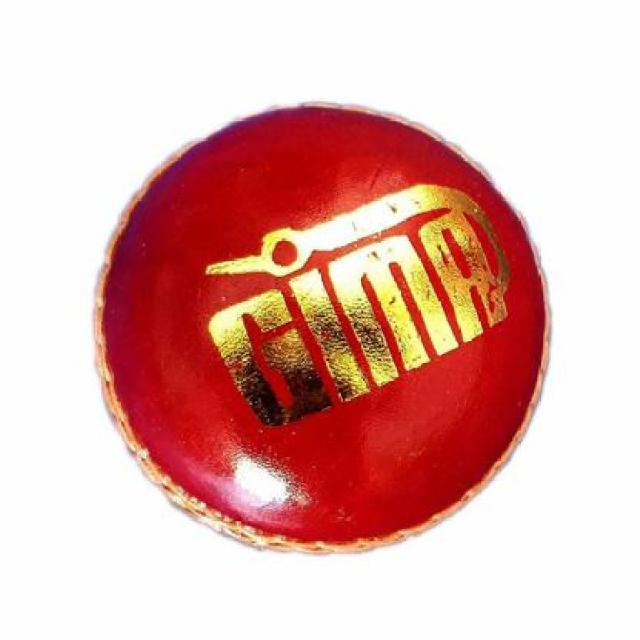ball: (45, 63, 583, 588)
